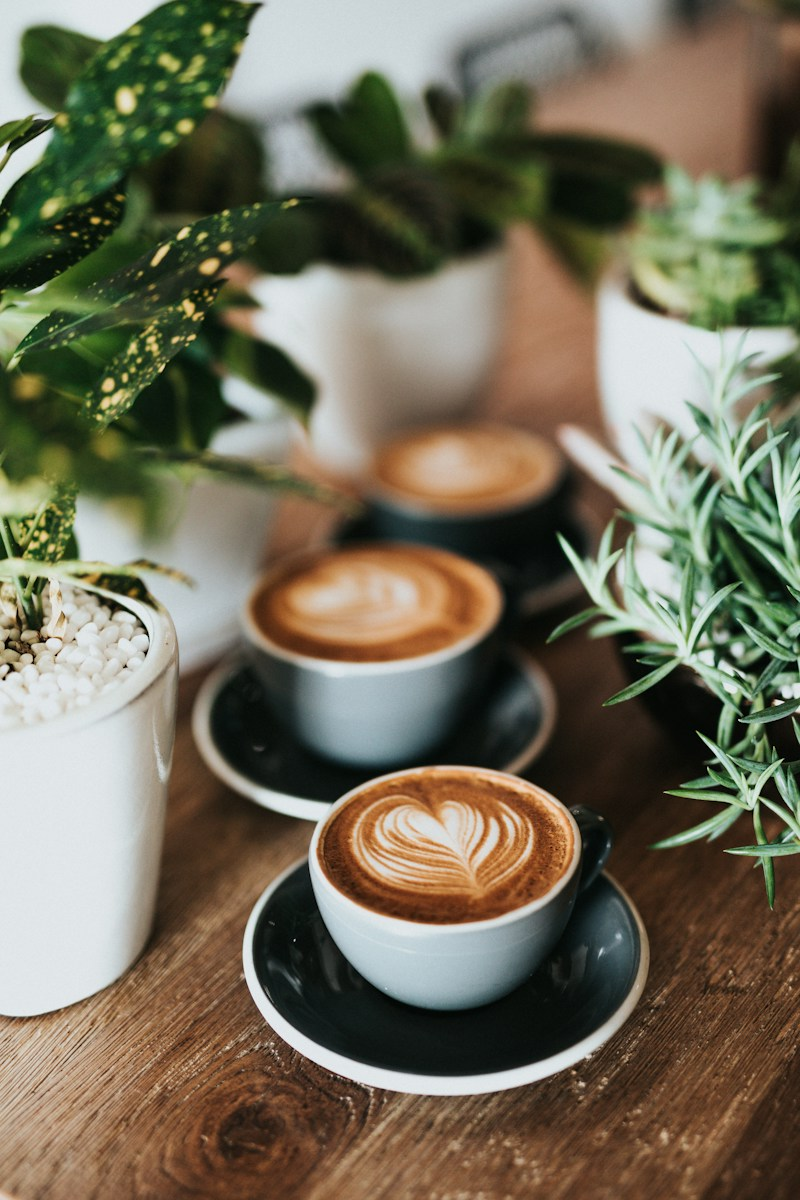cup: (0, 560, 180, 1021), (307, 765, 615, 1012), (236, 539, 507, 768)
